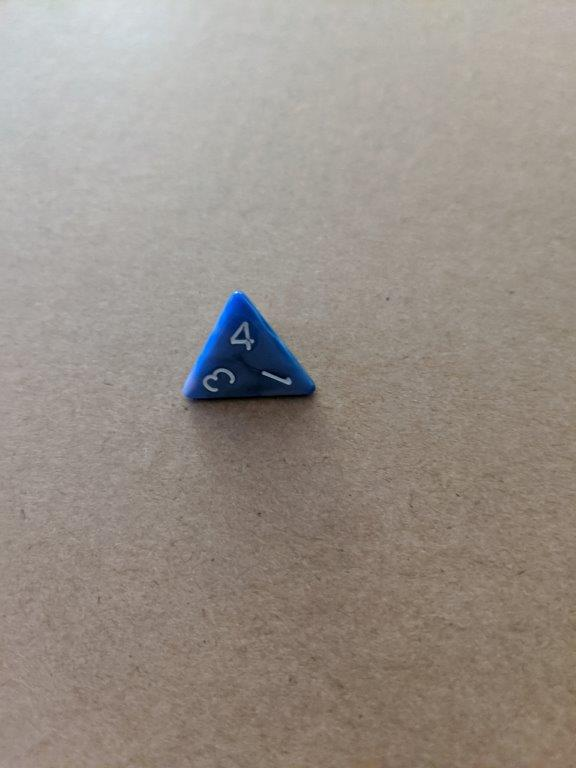d4-4: (179, 291, 318, 405)
